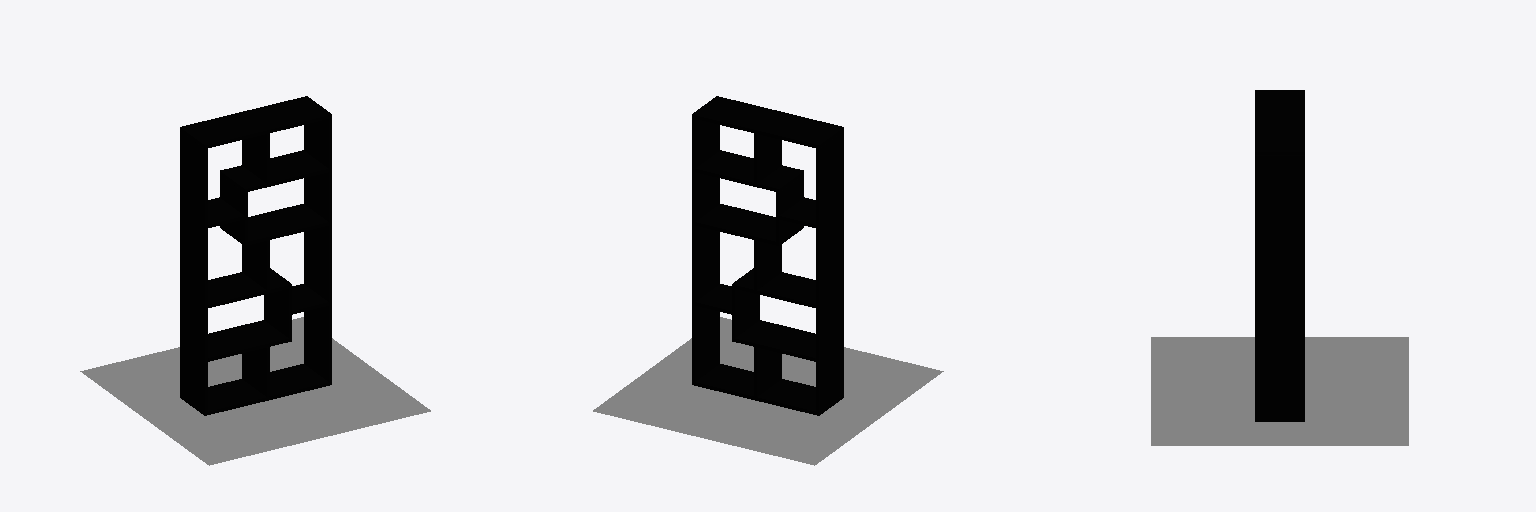
Rendered from MCRR3404_v6_LOD2.obj.
3 views of the same model, side by side, from view 1: azimuth 30°, elevation 25°; view 2: azimuth 150°, elevation 25°; view 3: azimuth 270°, elevation 25° (orthographic).
Parts seen in each view (by area): view 1: not_clear_obj_0_v6, shadow_plane_v6; view 2: not_clear_obj_0_v6, shadow_plane_v6; view 3: shadow_plane_v6, not_clear_obj_0_v6.
Part boxes in pixels (x1,y1,x2,y2): not_clear_obj_0_v6: (180, 96, 331, 415); shadow_plane_v6: (80, 317, 430, 465); not_clear_obj_0_v6: (692, 96, 843, 415); shadow_plane_v6: (593, 317, 943, 465); shadow_plane_v6: (1151, 337, 1408, 445); not_clear_obj_0_v6: (1255, 90, 1304, 421).
Size of the model in its own units: 155 by 180 by 155.